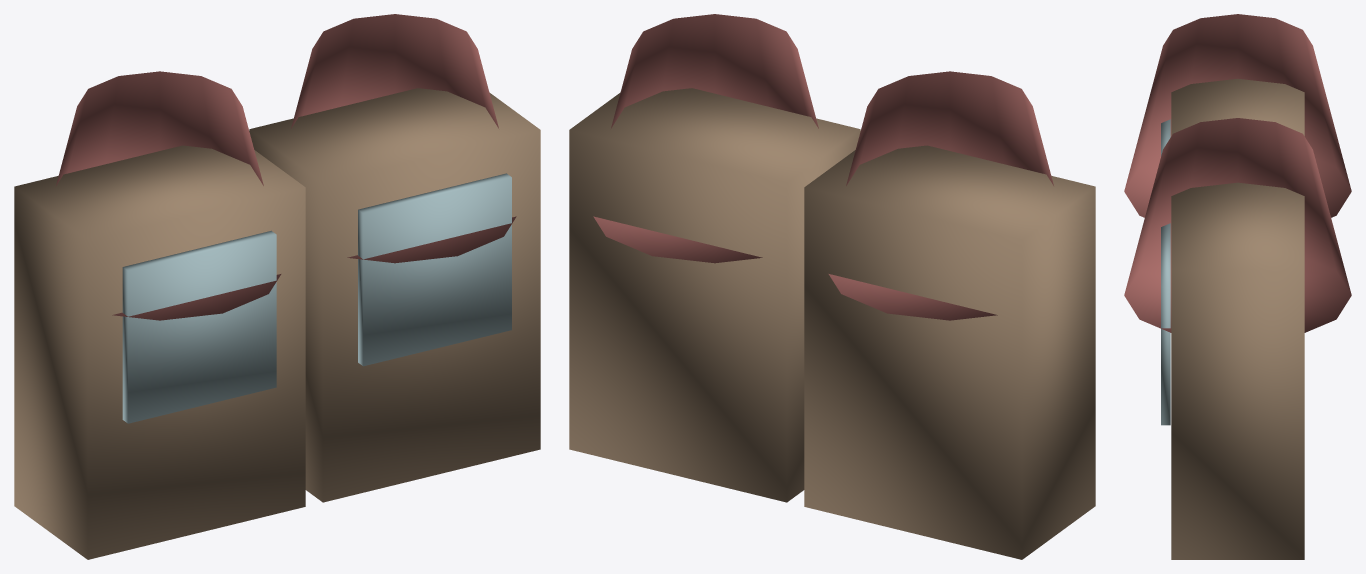
The model's file is jukebox__cluster.glb.
The picture shows the model from 3 angles, left to right: view 1: azimuth 30°, elevation 25°; view 2: azimuth 150°, elevation 25°; view 3: azimuth 270°, elevation 25°; orthographic projection. The views are drawn at different scales.
Parts seen in each view (by area): view 1: world; view 2: world; view 3: world.
Part boxes in pixels (x1=…): world: x1=14, y1=14, x2=540, y2=559; world: x1=569, y1=14, x2=1095, y2=559; world: x1=1124, y1=14, x2=1351, y2=559.
Bounding box in the file's own units: 1.71 × 1.44 × 0.82.
